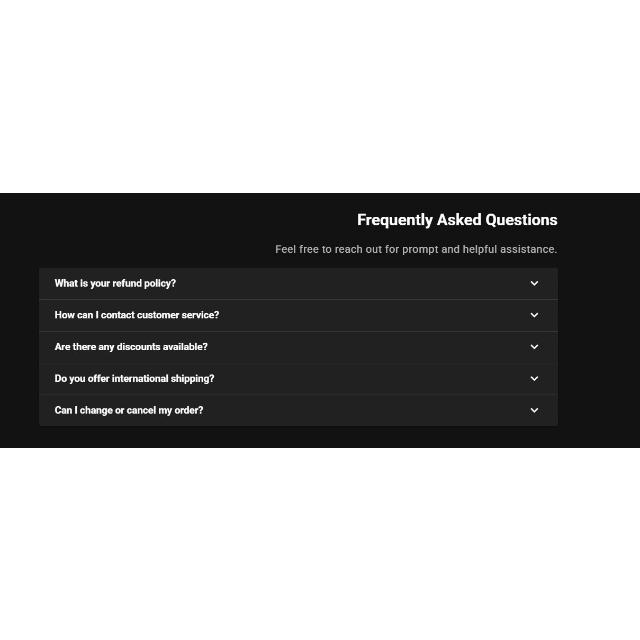QLabel: (348, 210, 558, 228), (274, 242, 558, 254)
VExpansionPanel: (40, 267, 558, 299), (40, 300, 558, 332), (40, 394, 558, 424), (39, 333, 556, 363), (40, 366, 558, 392)
